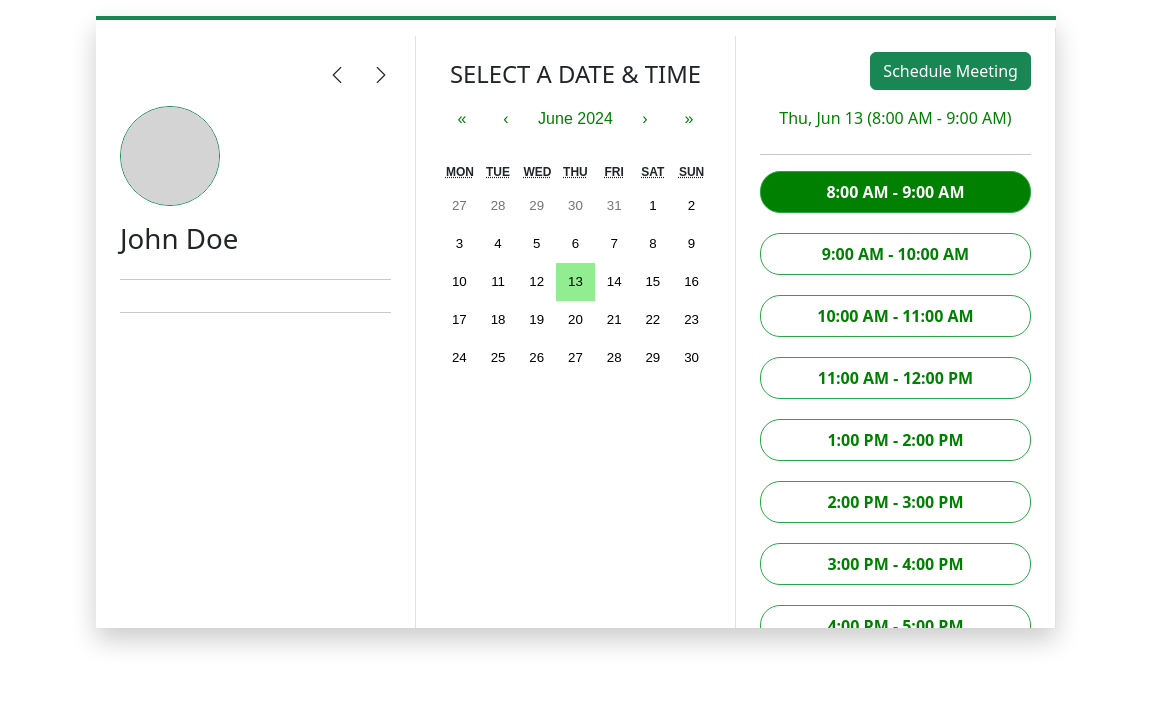
displays the previous faculty when pressing back arrow
The image size is (1152, 720).
Check: the heading "John Doe" is shown, box left=120, top=219, right=238, bottom=257
Click the icon with test id "chevron-left-icon". click: (337, 75)
box: left=327, top=60, right=347, bottom=90
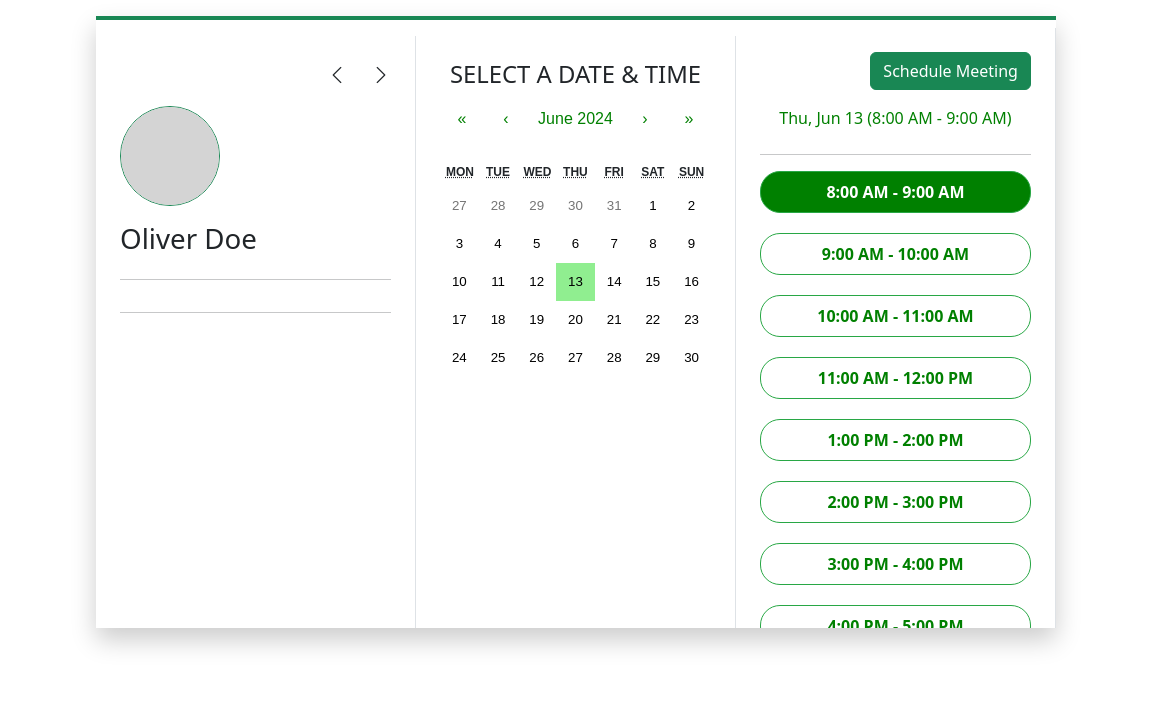
Click the icon with test id "chevron-left-icon". click: (337, 75)
box: left=327, top=60, right=347, bottom=90
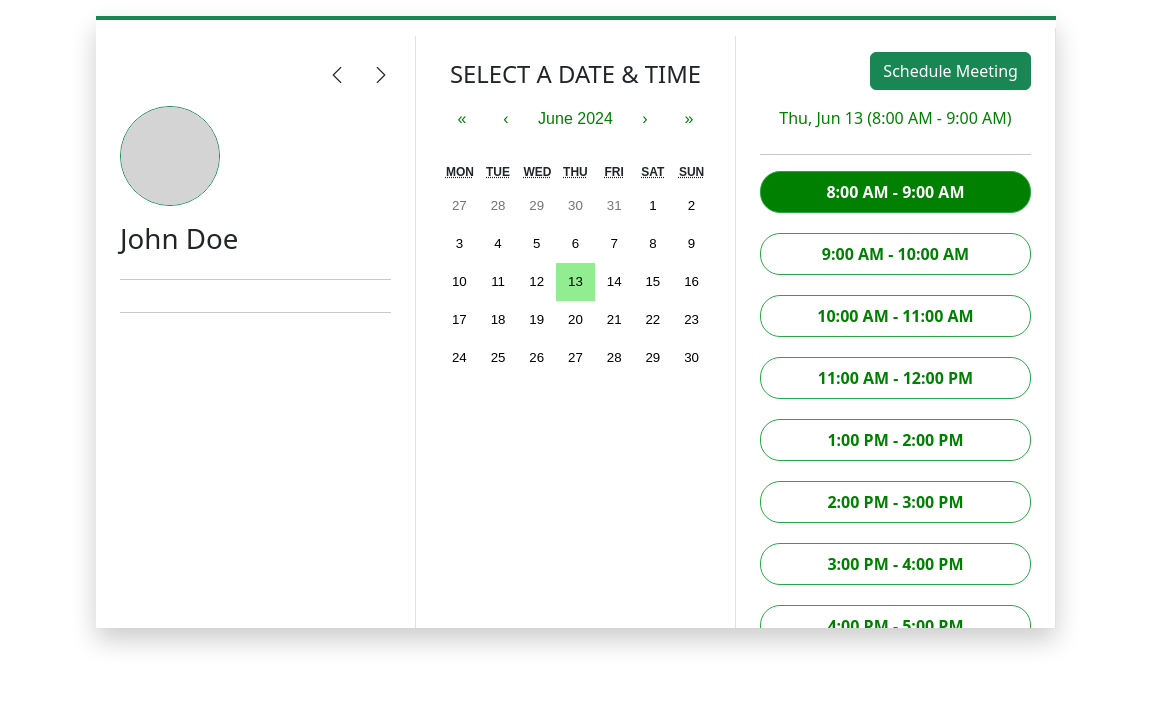
Click the icon with test id "chevron-left-icon". click: (337, 75)
box: left=327, top=60, right=347, bottom=90
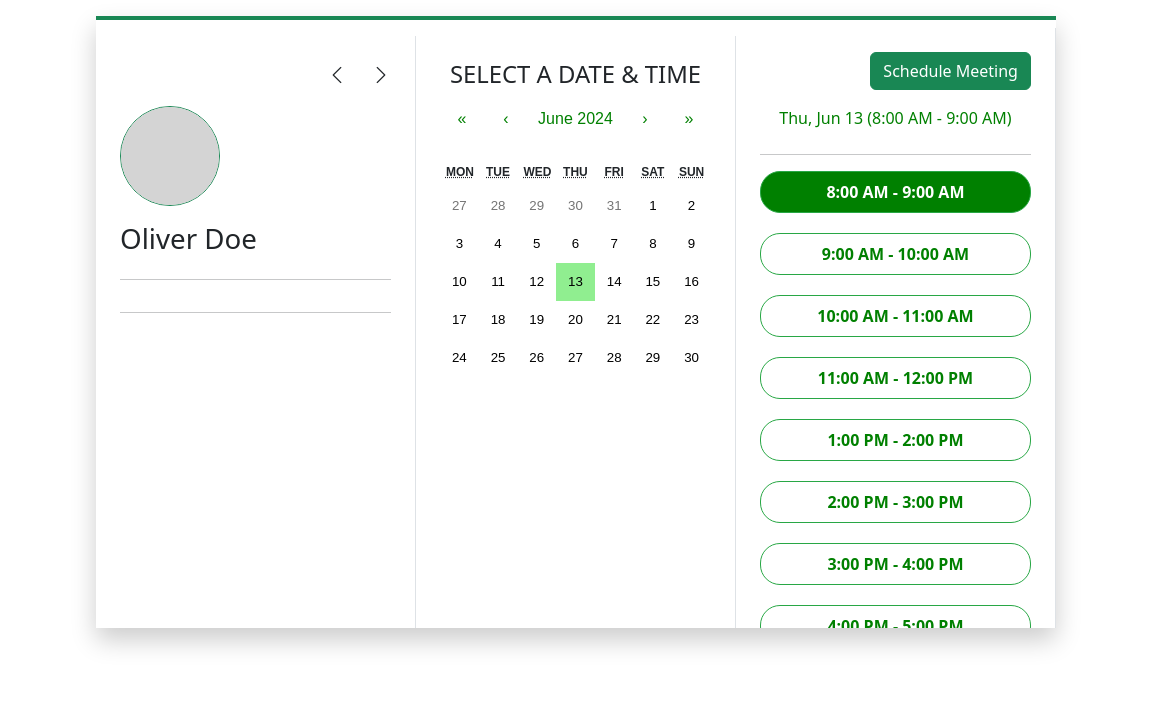
Check: the heading "Oliver Doe" is shown, box left=120, top=219, right=257, bottom=257
